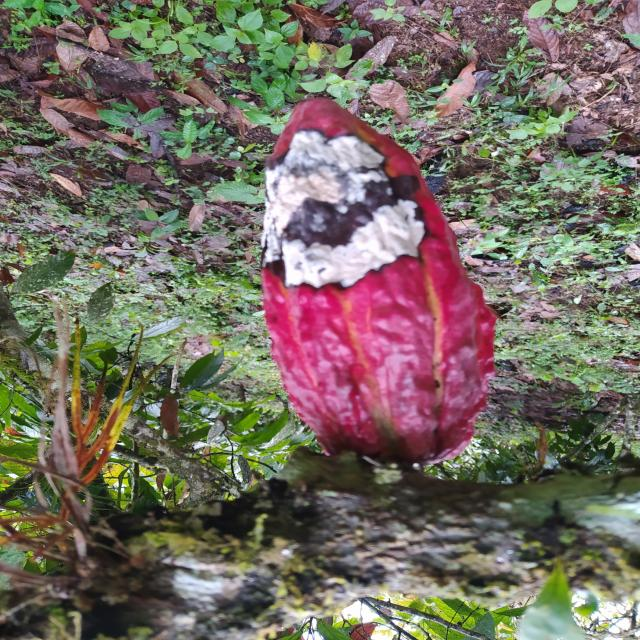Monilia: (260, 95, 496, 468)
